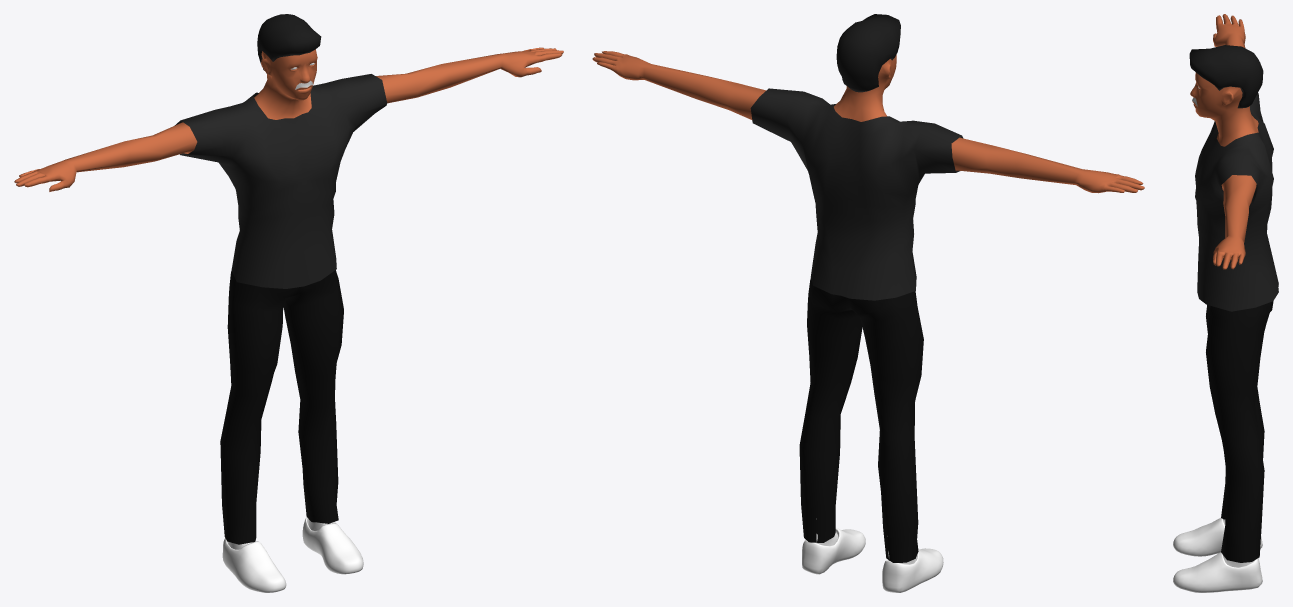
File: Man 9.obj
The picture shows the model from 3 angles, left to right: view 1: azimuth 30°, elevation 25°; view 2: azimuth 150°, elevation 25°; view 3: azimuth 270°, elevation 25°; orthographic projection. The views are drawn at different scales.
Visible parts, largest first — view 1: Human:Male1591.001, Human:Male1591.002, Human:Male1591, Human:Shoes05, Human:Male1591.003_Human:Male1591.005; view 2: Human:Male1591.001, Human:Male1591.002, Human:Male1591, Human:Shoes05, Human:Male1591.003_Human:Male1591.005; view 3: Human:Male1591.002, Human:Male1591.001, Human:Male1591, Human:Shoes05, Human:Male1591.003_Human:Male1591.005.
Part boxes in pixels (<box>): Human:Male1591.001: <box>174,74,387,288</box>; Human:Male1591.002: <box>220,270,343,544</box>; Human:Male1591: <box>14,47,563,191</box>; Human:Shoes05: <box>222,517,363,592</box>; Human:Male1591.003_Human:Male1591.005: <box>257,14,321,73</box>; Human:Male1591.001: <box>750,88,963,300</box>; Human:Male1591.002: <box>799,278,923,562</box>; Human:Male1591: <box>592,51,1144,193</box>; Human:Shoes05: <box>802,518,943,592</box>; Human:Male1591.003_Human:Male1591.005: <box>836,14,900,92</box>; Human:Male1591.002: <box>1206,301,1273,562</box>; Human:Male1591.001: <box>1195,93,1278,311</box>; Human:Male1591: <box>1190,14,1258,269</box>; Human:Shoes05: <box>1173,518,1262,592</box>; Human:Male1591.003_Human:Male1591.005: <box>1189,45,1263,108</box>.
Size of the model in its own units: 19.93 by 19.06 by 3.51.
